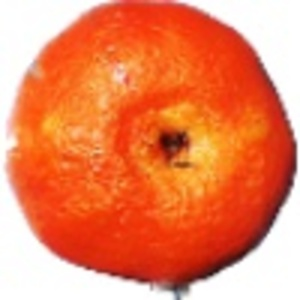tangerina: (3, 1, 299, 300)
